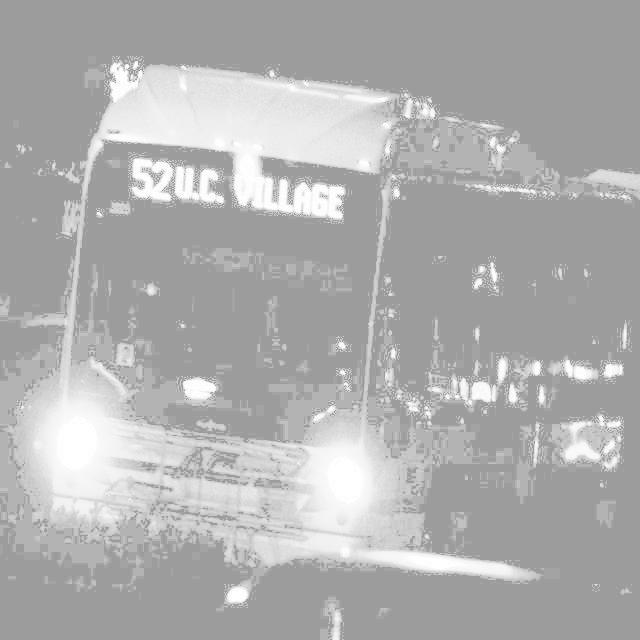Bus: (49, 36, 640, 616)
